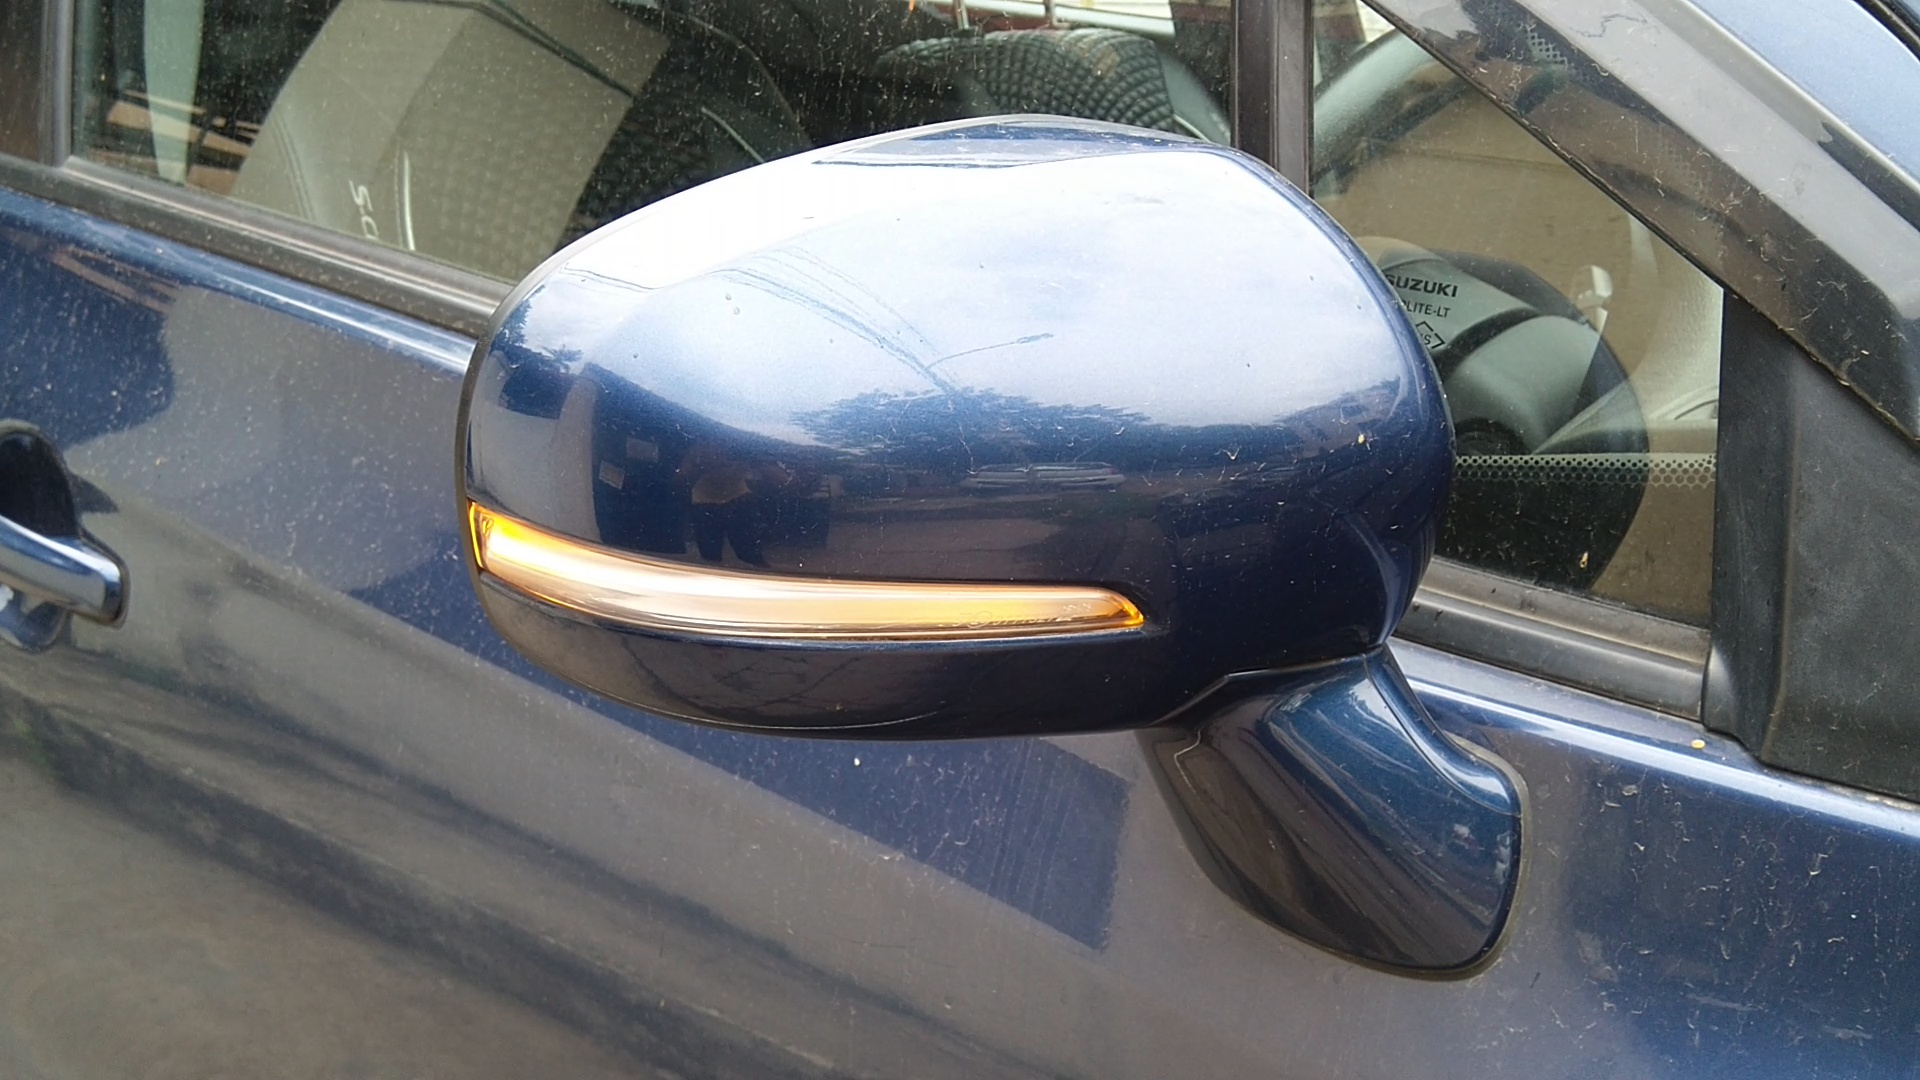ovr_mirror: (426, 82, 1571, 1007)
